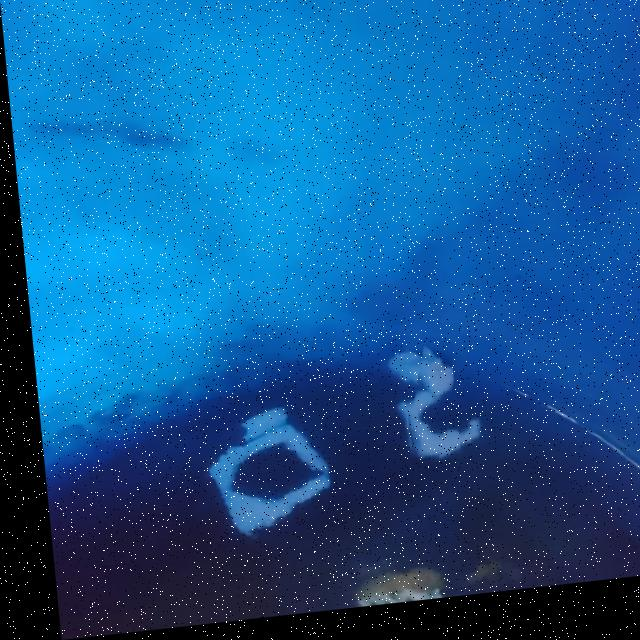litter: (189, 392, 337, 549), (390, 347, 451, 471)
